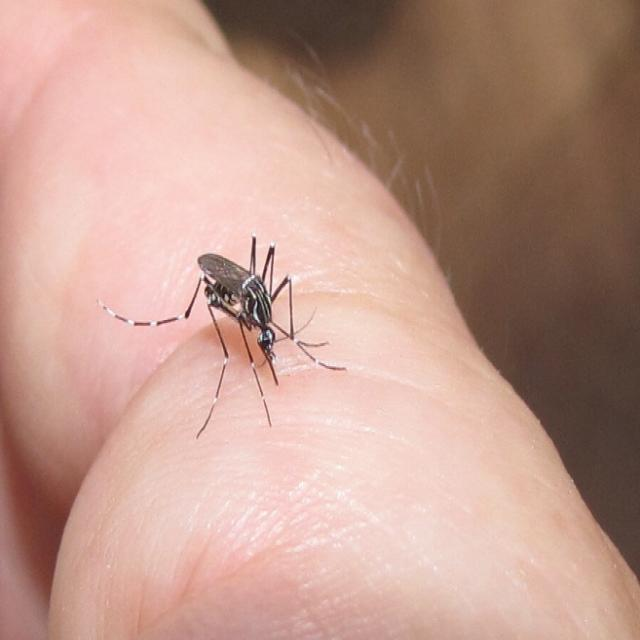Mosquito: (149, 180, 361, 459)
